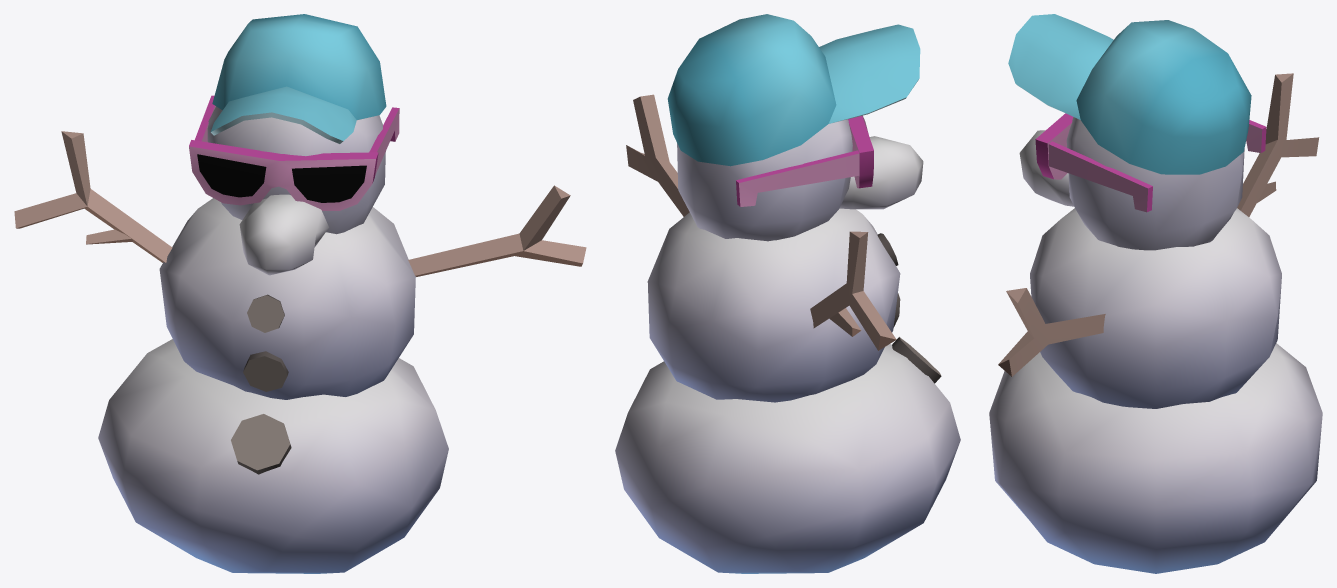
Rendered from BlizzardBeachSnowMan.glb.
The picture shows the model from 3 angles, left to right: view 1: azimuth 30°, elevation 25°; view 2: azimuth 150°, elevation 25°; view 3: azimuth 270°, elevation 25°; orthographic projection.
Visible parts, largest first — view 1: BlizzardBeachSnowMan; view 2: BlizzardBeachSnowMan; view 3: BlizzardBeachSnowMan.
Boxes of the visible parts, <box> form: BlizzardBeachSnowMan: <box>14,14,586,573</box>; BlizzardBeachSnowMan: <box>615,14,960,573</box>; BlizzardBeachSnowMan: <box>989,14,1322,573</box>.
Bounding box in the file's own units: 0.6636 × 0.8033 × 0.4593.
